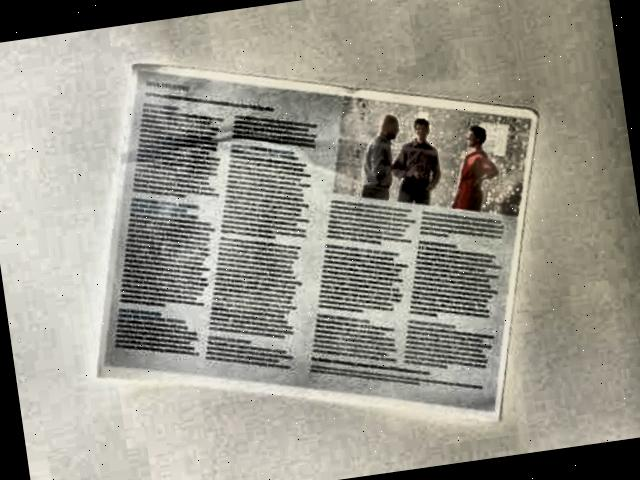Paper: (45, 0, 587, 480)
